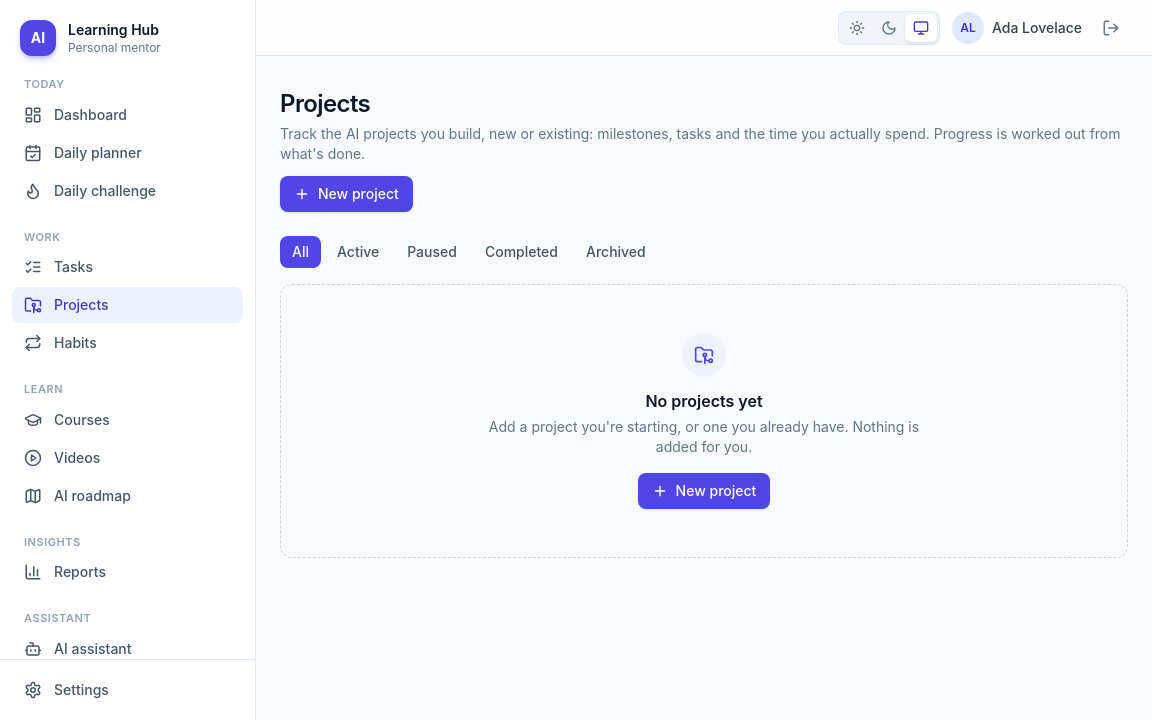
Test: creating a project › shows GitHub's problem and asks for a link first when none is entered
The width and height of the screenshot is (1152, 720).
Click the 1st button "New project": point(346, 194) [280,176,413,212]
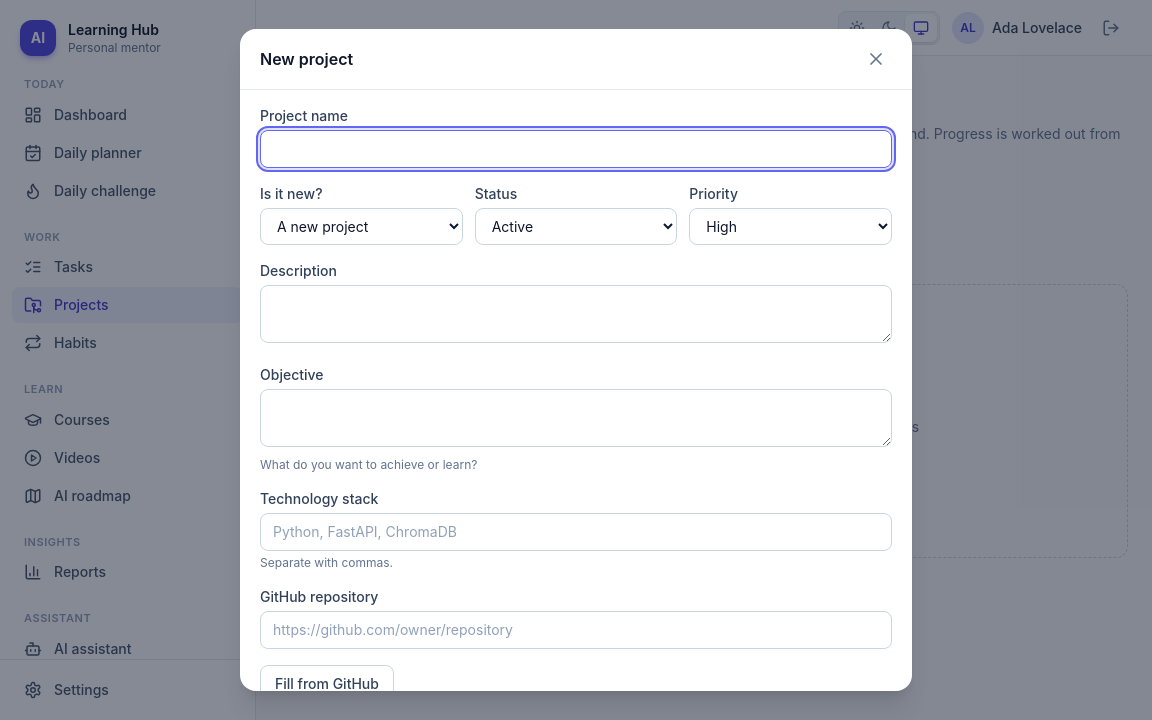
Click the button "Fill from GitHub": point(327, 684) [260,665,394,703]
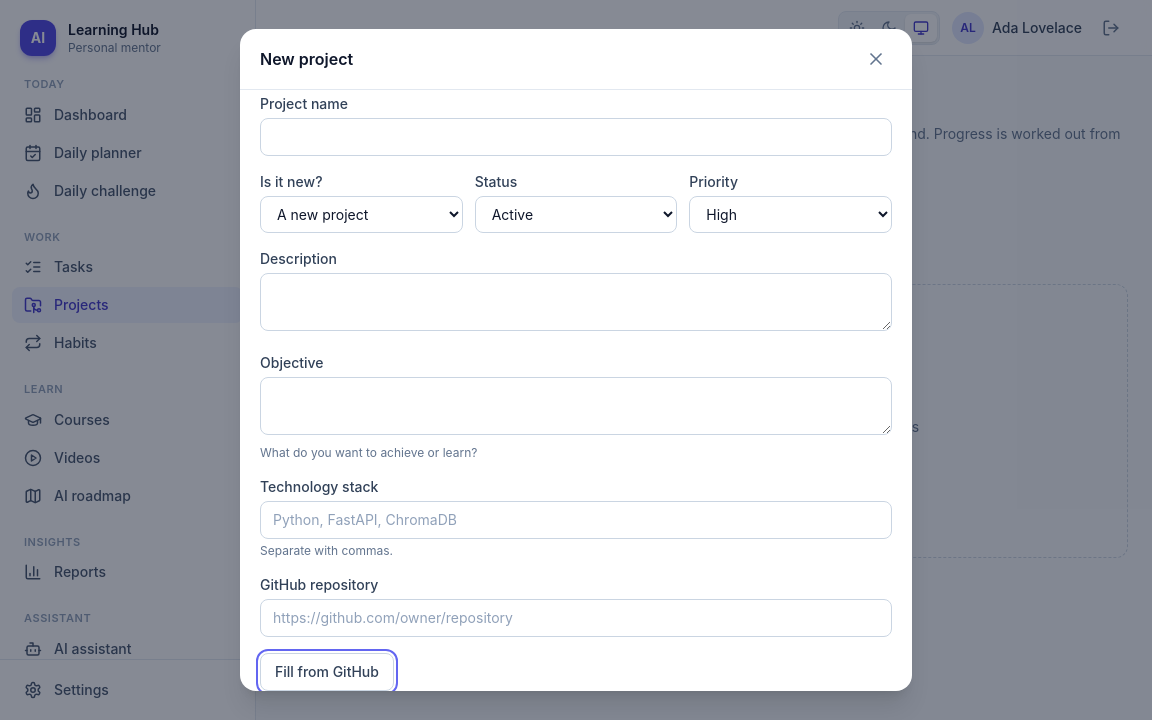
In the field labelled "GitHub repository": point(576, 618) [260,599,892,637], type "https://github.com/me/missing"
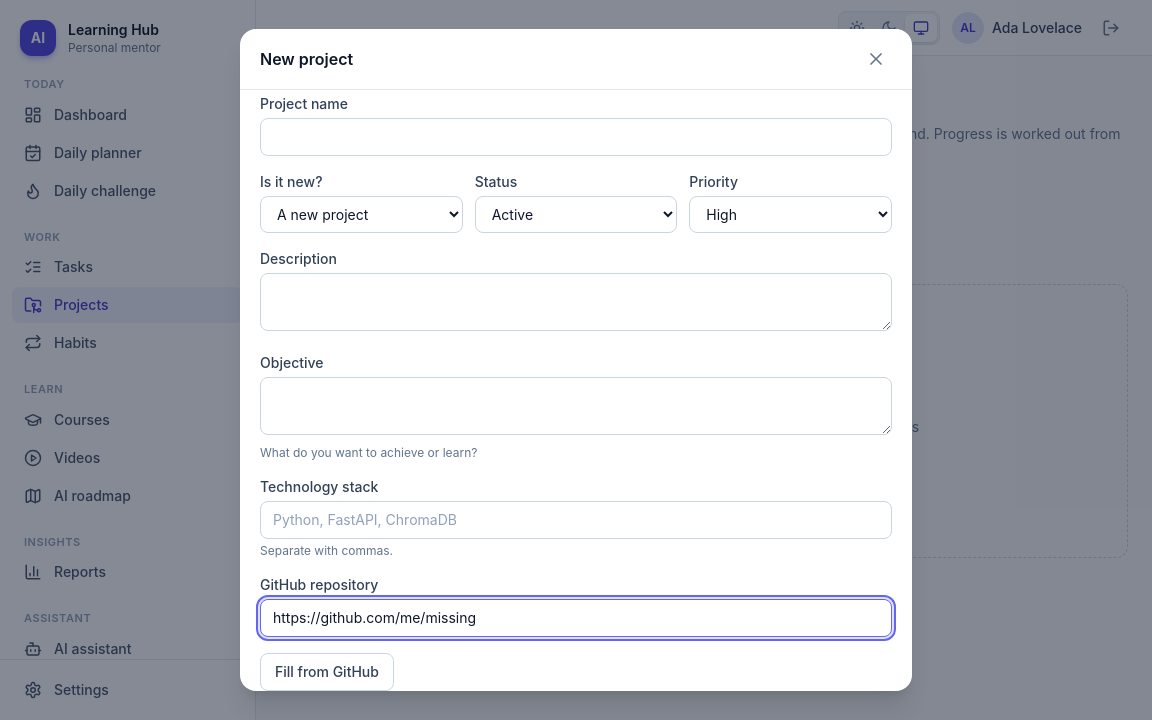
Click the button "Fill from GitHub": point(327, 672) [260,653,394,691]
(page scrolled)
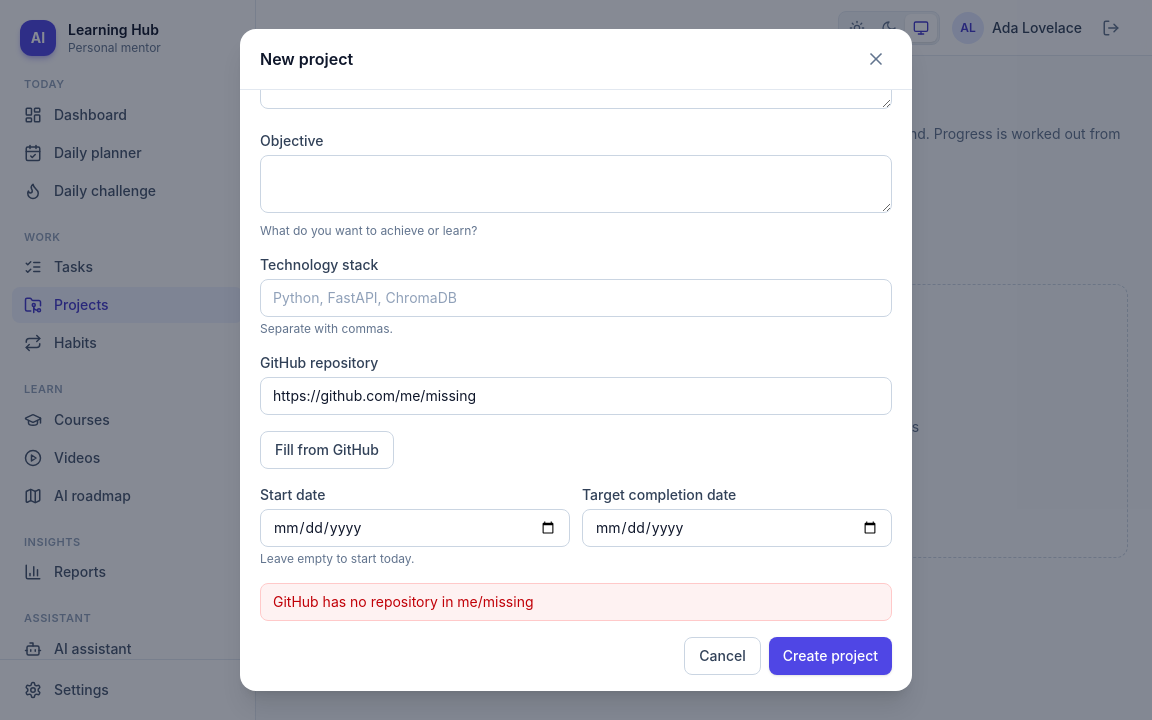
Expected: the message shows "GitHub has no repository", [273,593,534,610]
